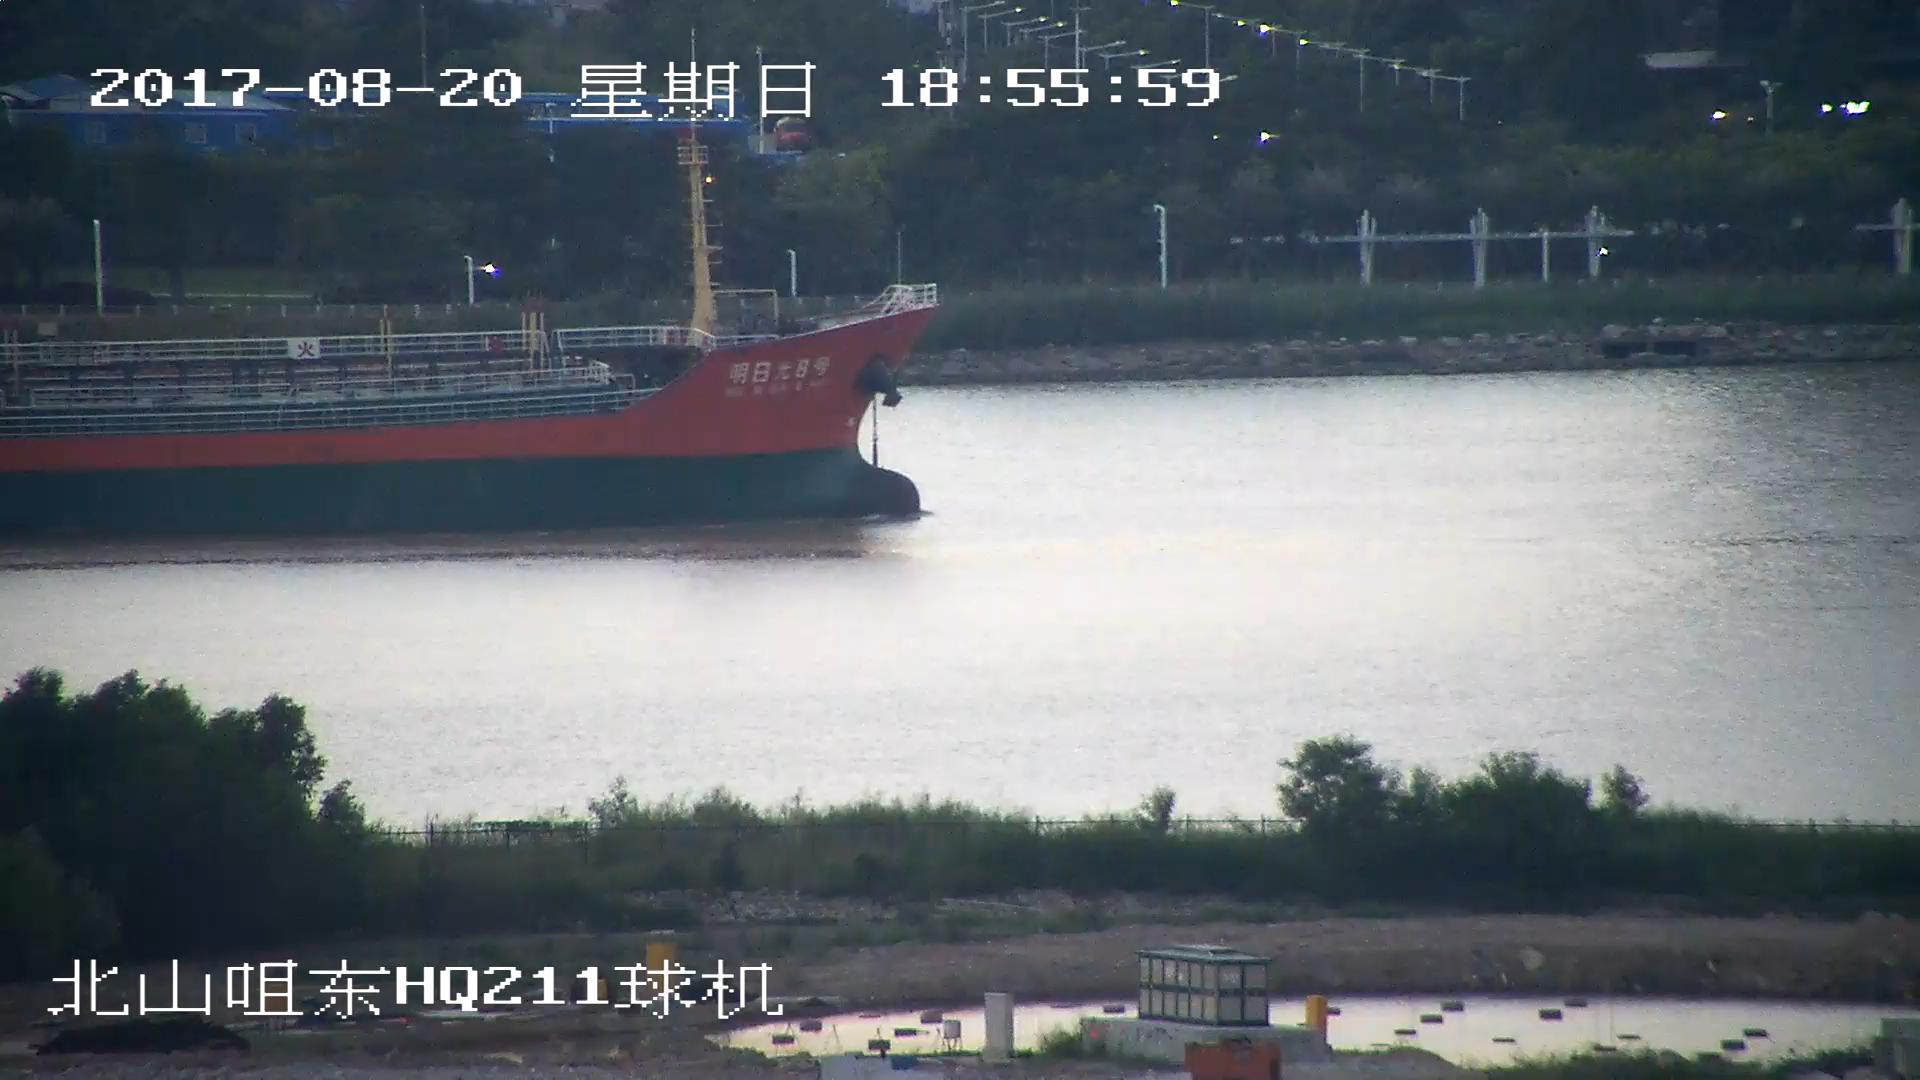general cargo ship: (1, 150, 937, 532)
